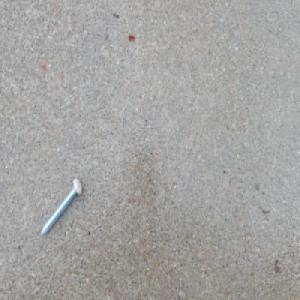Nail: (39, 176, 83, 239)
